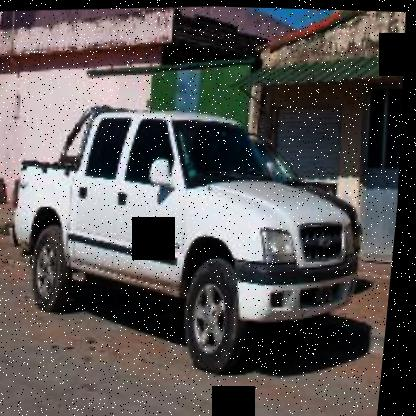not_emergency: (0, 83, 394, 403)
